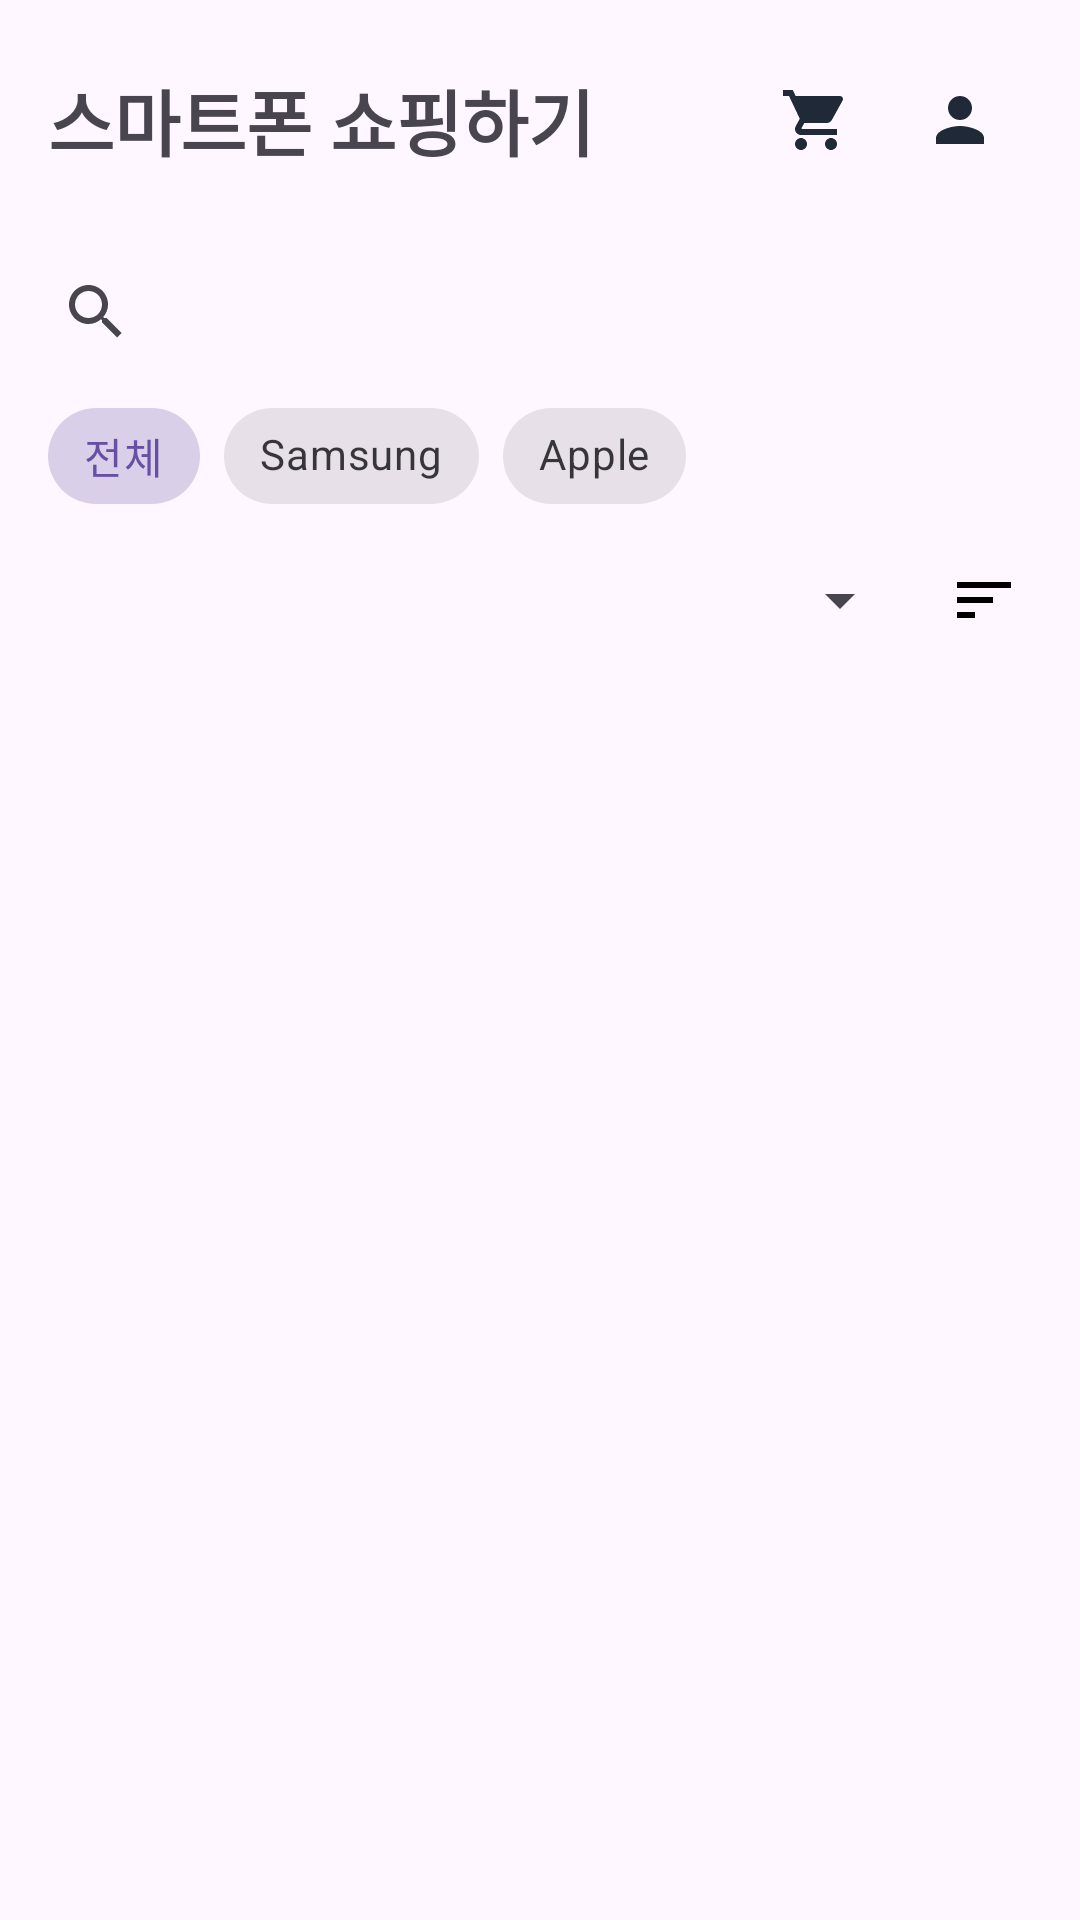

Icons on this 1080×1920 Android screen, each with its box as (x1, y1, x2, y2):
sort ascending: (957, 582, 1011, 618)
마이페이지: (936, 96, 984, 144)
장바구니: (783, 90, 843, 150)
